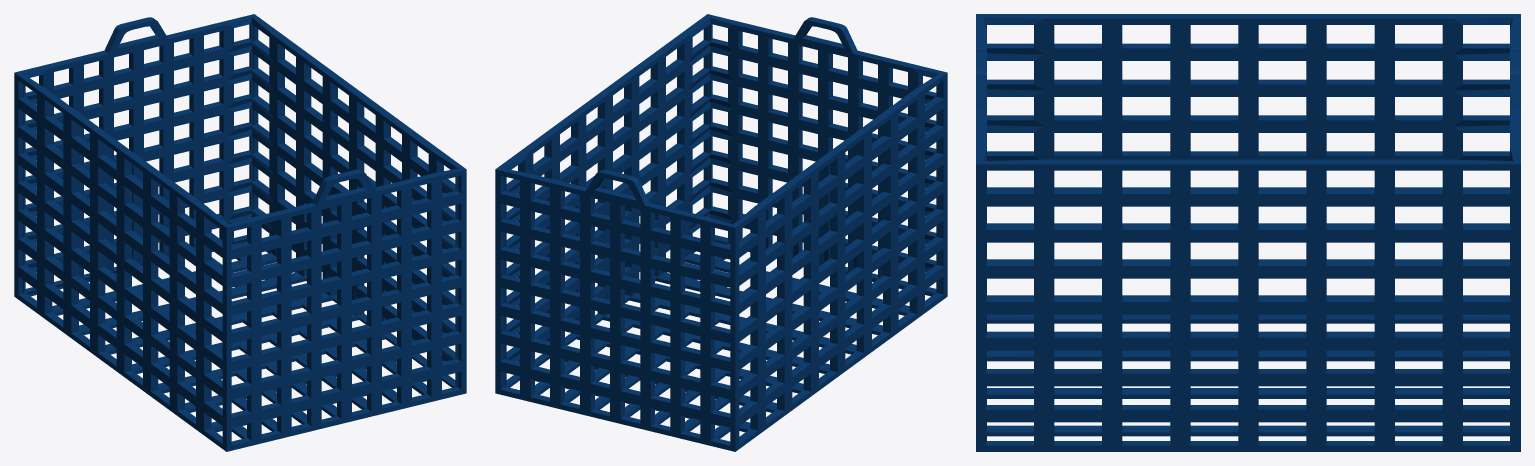
Rendered from BreadCrate.fbx.
The picture shows the model from 3 angles, left to right: view 1: azimuth 30°, elevation 25°; view 2: azimuth 150°, elevation 25°; view 3: azimuth 270°, elevation 25°; orthographic projection. The views are drawn at different scales.
Parts seen in each view (by area): view 1: Cube; view 2: Cube; view 3: Cube.
Boxes of the visible parts, bbox=[...] form: Cube: bbox=[14, 14, 466, 451]; Cube: bbox=[495, 14, 947, 451]; Cube: bbox=[976, 14, 1520, 451].
Size of the model in its own units: 364 by 357 by 557.
